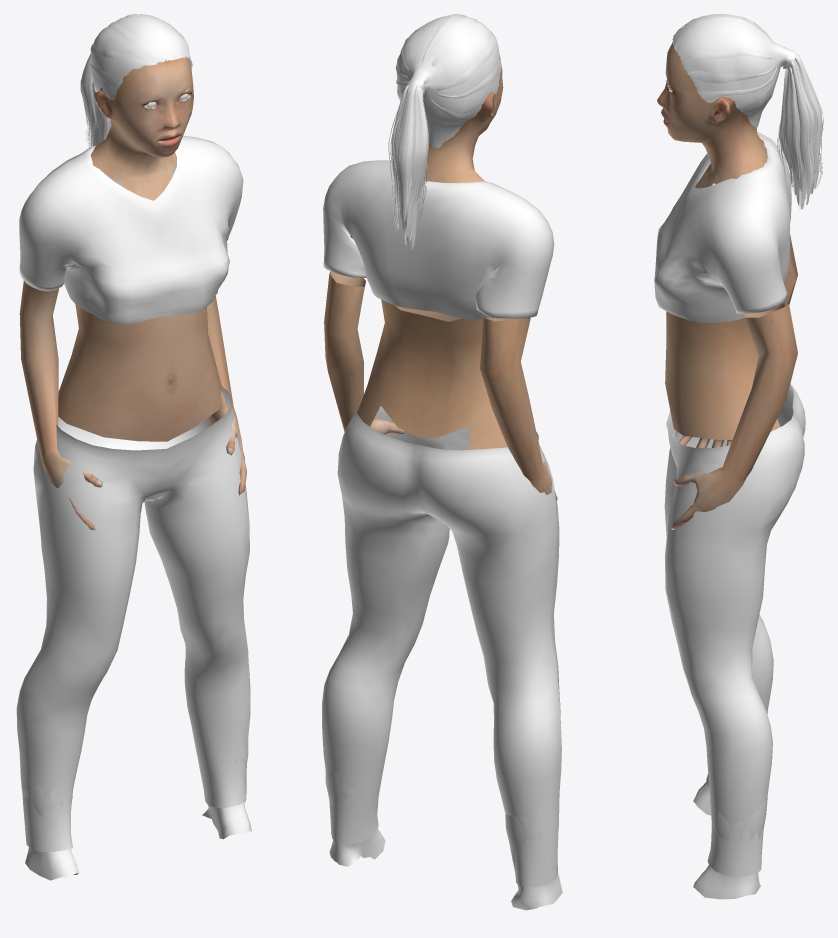
The model's file is ped06.fbx.
3 renders of one model, left to right at view 1: azimuth 30°, elevation 25°; view 2: azimuth 150°, elevation 25°; view 3: azimuth 270°, elevation 25°, orthographic. The views are drawn at different scales.
Visible parts, largest first — view 1: Human.female_sportsuit01, Human.female1605, Human.ponytail01, Human.shoes04; view 2: Human.female_sportsuit01, Human.female1605, Human.ponytail01, Human.shoes04; view 3: Human.female_sportsuit01, Human.female1605, Human.ponytail01, Human.shoes04.
Part boxes in pixels (x1,y1,x2,y2): Human.female_sportsuit01: (16, 135, 250, 851); Human.female1605: (19, 56, 246, 530); Human.ponytail01: (80, 14, 192, 147); Human.shoes04: (21, 739, 251, 880); Human.female_sportsuit01: (322, 160, 561, 886); Human.female1605: (324, 55, 557, 500); Human.ponytail01: (388, 14, 501, 249); Human.shoes04: (325, 767, 562, 910); Human.female_sportsuit01: (654, 131, 805, 877); Human.female1605: (657, 43, 797, 529); Human.ponytail01: (672, 14, 823, 209); Human.shoes04: (693, 713, 767, 899).
Bounding box in the file's own units: 39.22 × 136 × 27.9.
